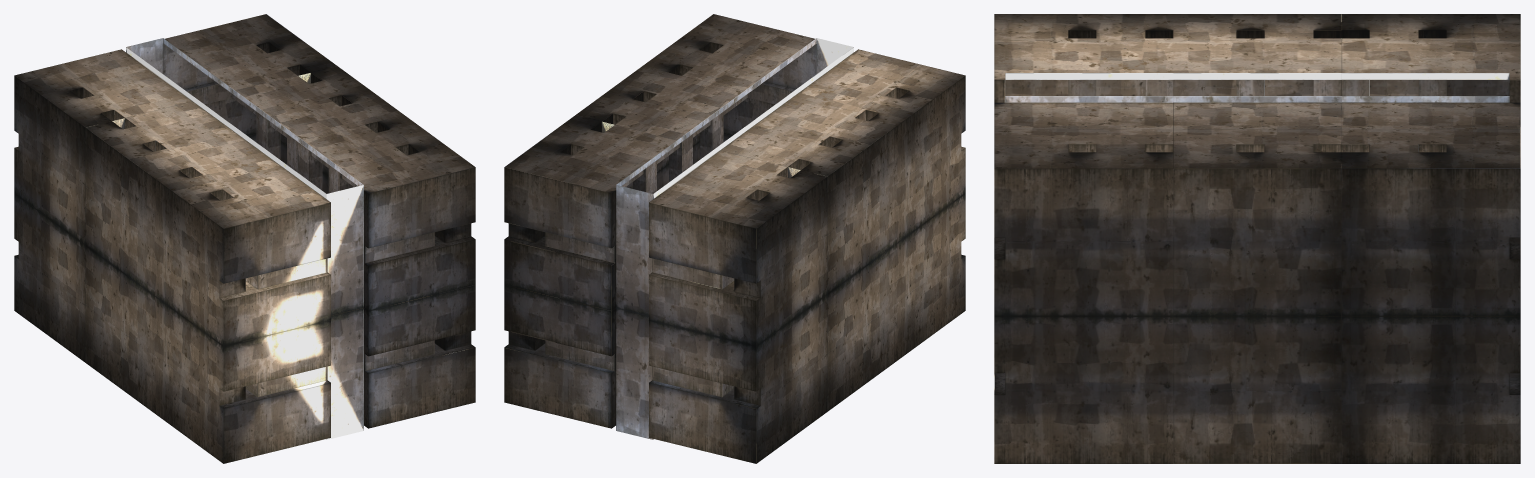
The model's file is Ambiente.glb.
3 renders of one model, left to right at view 1: azimuth 30°, elevation 25°; view 2: azimuth 150°, elevation 25°; view 3: azimuth 270°, elevation 25°, orthographic. The views are drawn at different scales.
Parts seen in each view (by area): view 1: Plane_0, Plane.002_2; view 2: Plane_0, Plane.002_2; view 3: Plane_0, Plane.002_2.
Boxes of the visible parts, x1=… form: Plane_0: x1=14, y1=14, x2=475, y2=346; Plane.002_2: x1=14, y1=134, x2=475, y2=463; Plane_0: x1=504, y1=14, x2=965, y2=346; Plane.002_2: x1=504, y1=134, x2=965, y2=463; Plane_0: x1=994, y1=14, x2=1520, y2=316; Plane.002_2: x1=994, y1=316, x2=1520, y2=463.
Bounding box in the file's own units: 20.1 × 18.74 × 28.91.
Materials: 2 (2 with a texture image).
